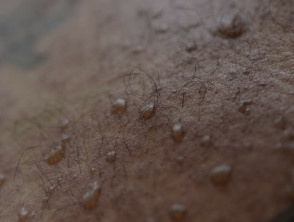SJS-TEN: (0, 86, 294, 222), (126, 0, 252, 64)
